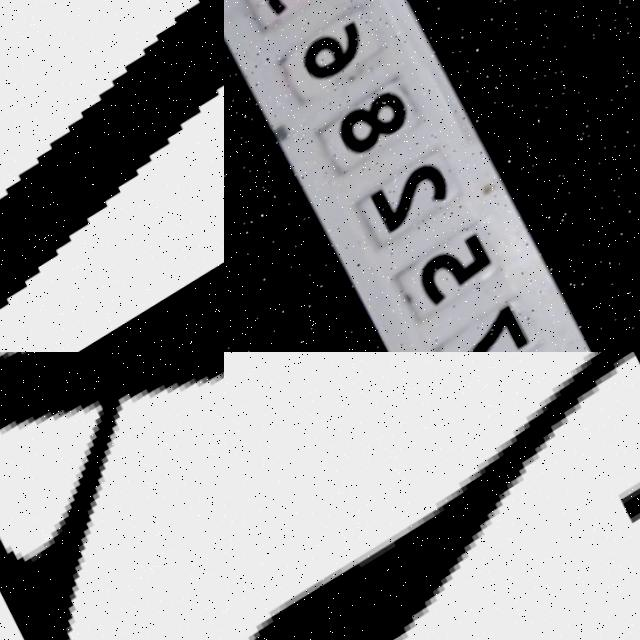2: (349, 136, 488, 271)
5: (392, 210, 534, 347), (232, 0, 363, 50)
6: (268, 0, 408, 124)
7: (224, 352, 640, 640), (427, 284, 568, 352)
8: (309, 63, 450, 198)
U: (0, 0, 224, 352)
X: (0, 352, 224, 640)
